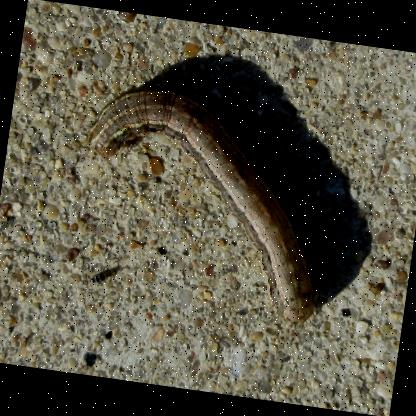Fall Armyworm Larvae: (60, 68, 348, 335)
